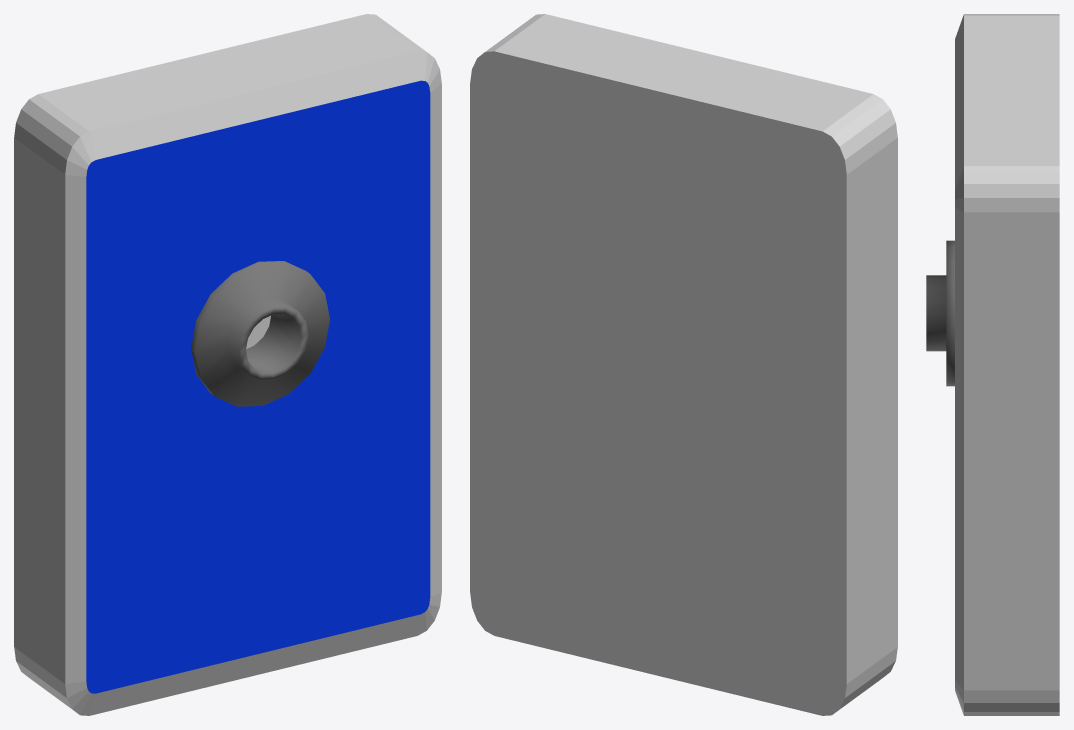
3 views of the same model, side by side, from view 1: azimuth 30°, elevation 25°; view 2: azimuth 150°, elevation 25°; view 3: azimuth 270°, elevation 25° (orthographic). The views are drawn at different scales.
Visible parts, largest first — view 1: EM-49; view 2: EM-49; view 3: EM-49.
Part boxes in pixels (<box>): EM-49: <box>14,14,441,715</box>; EM-49: <box>470,14,897,715</box>; EM-49: <box>926,14,1059,715</box>.
Bounding box in the file's own units: 200 × 297 × 65.42.
